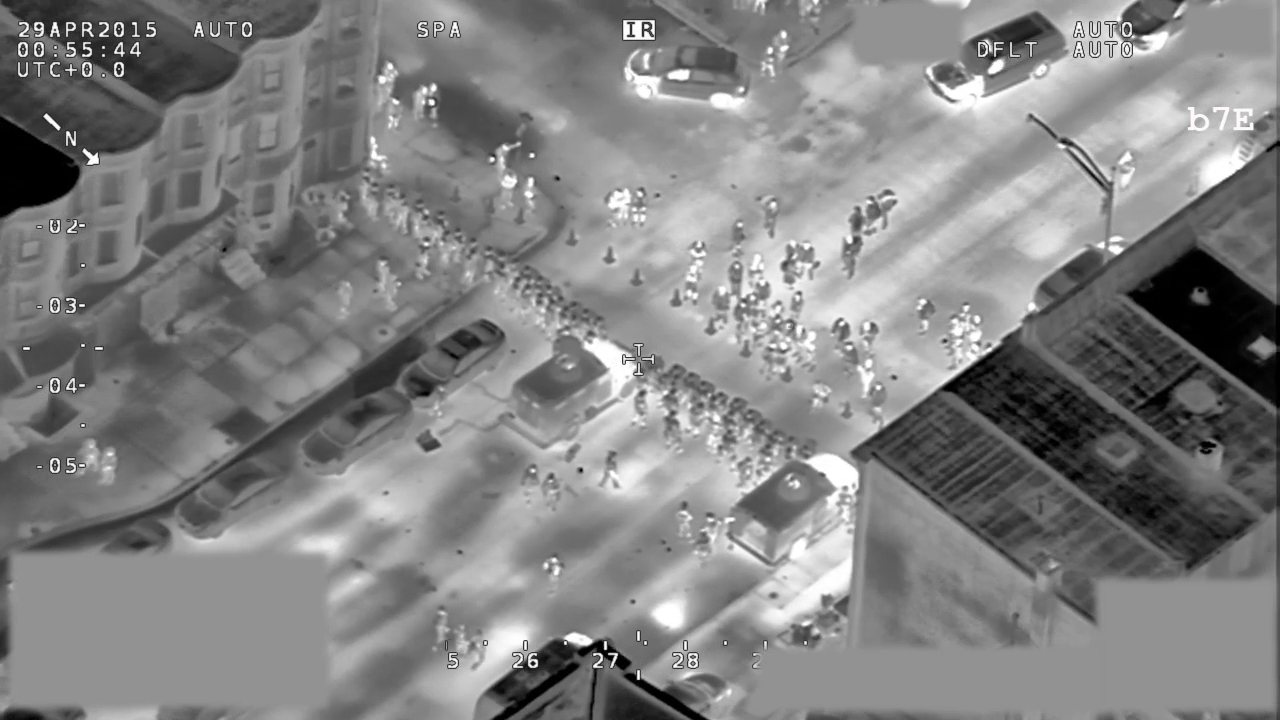vehicle: (505, 331, 649, 453), (725, 448, 864, 569), (924, 12, 1071, 108), (172, 450, 295, 545), (294, 388, 413, 478), (394, 317, 507, 410), (621, 39, 755, 112)
